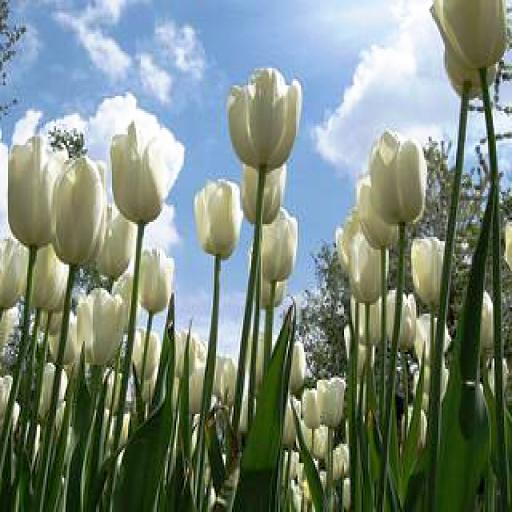tulip: (107, 115, 186, 226), (226, 66, 302, 173), (6, 134, 69, 250), (366, 130, 428, 224), (53, 162, 107, 269), (334, 218, 388, 303), (194, 177, 242, 262), (77, 290, 125, 365), (357, 183, 403, 254), (408, 235, 451, 305), (242, 156, 284, 222), (442, 47, 496, 96), (261, 212, 296, 278), (140, 246, 174, 308), (316, 371, 346, 429), (176, 328, 200, 378), (288, 341, 309, 386)
